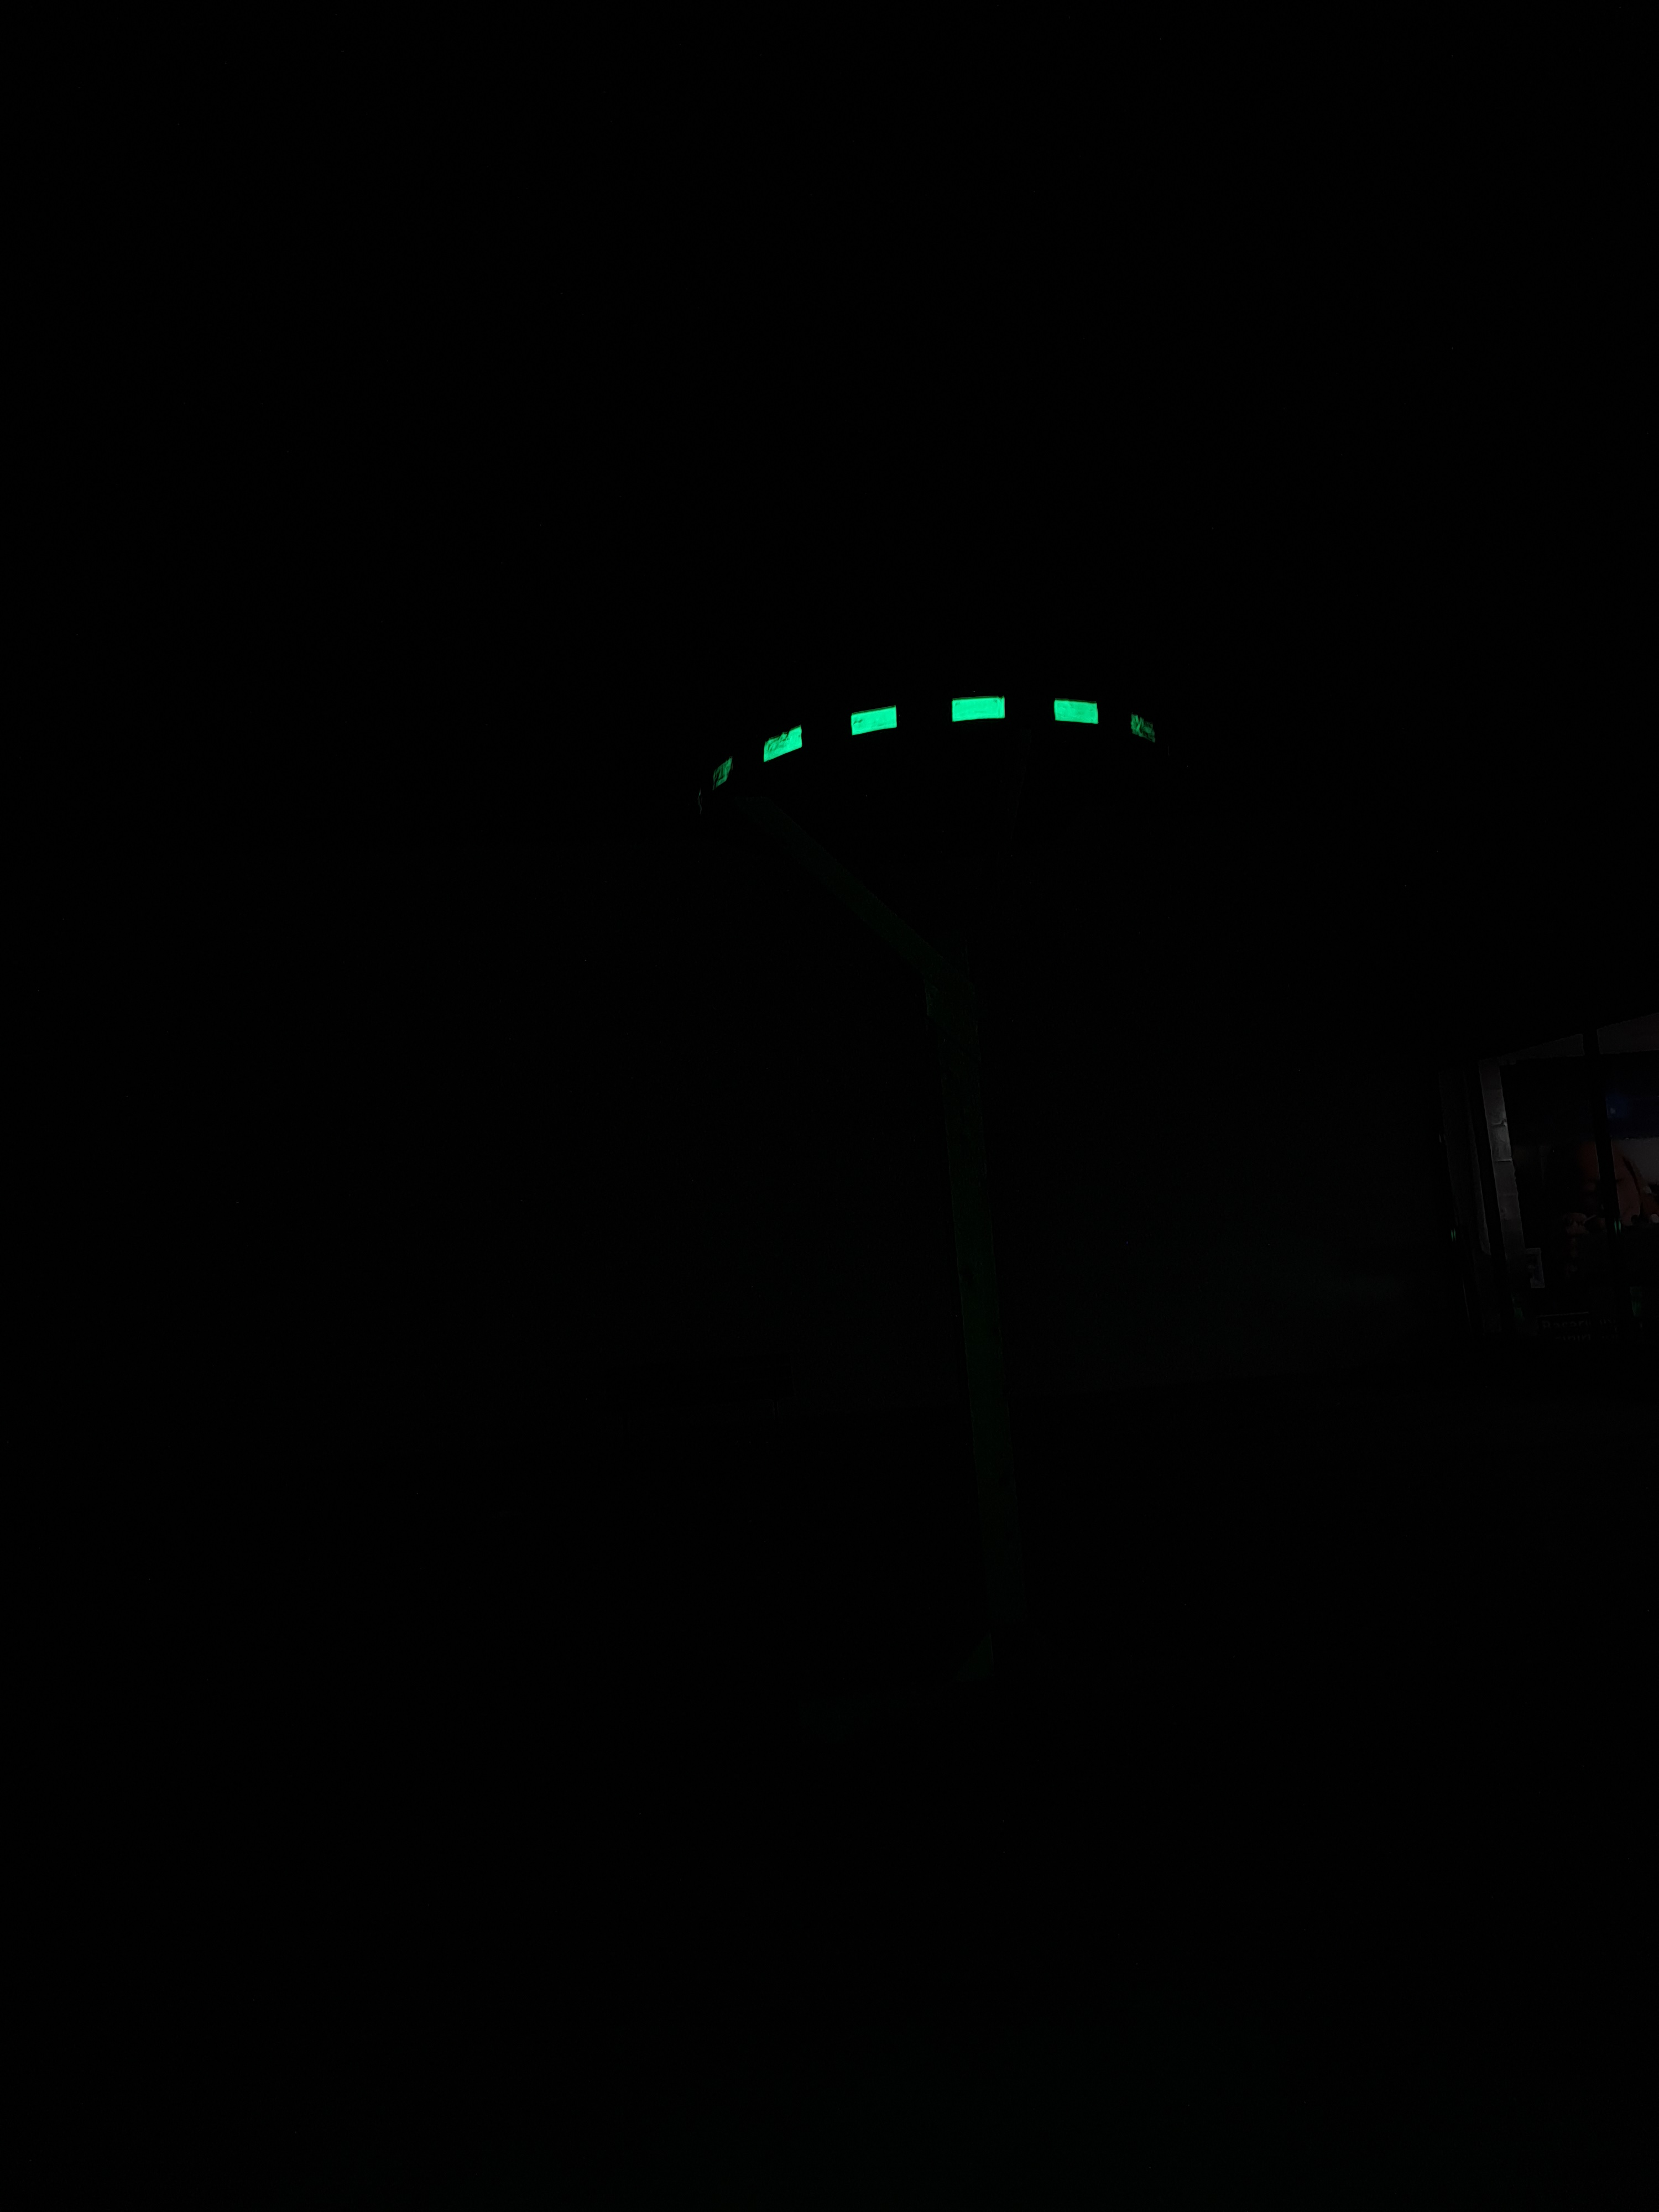hoop: (680, 651, 1201, 808)
